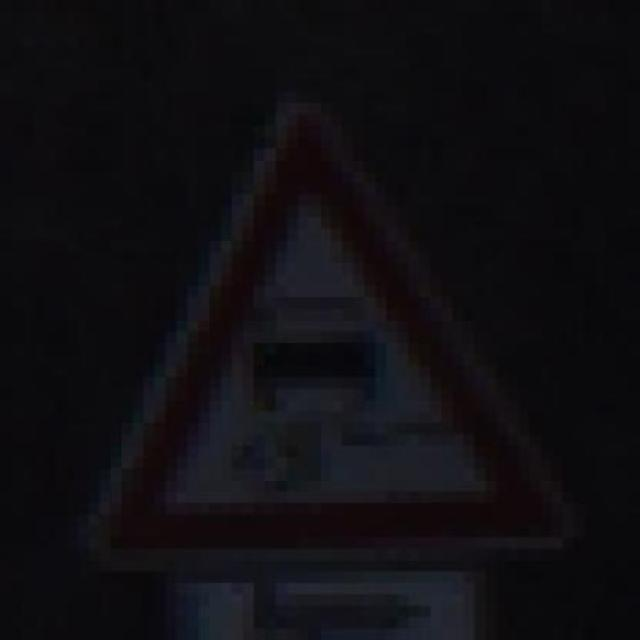Slippery Road Ahead: (44, 79, 596, 572)
